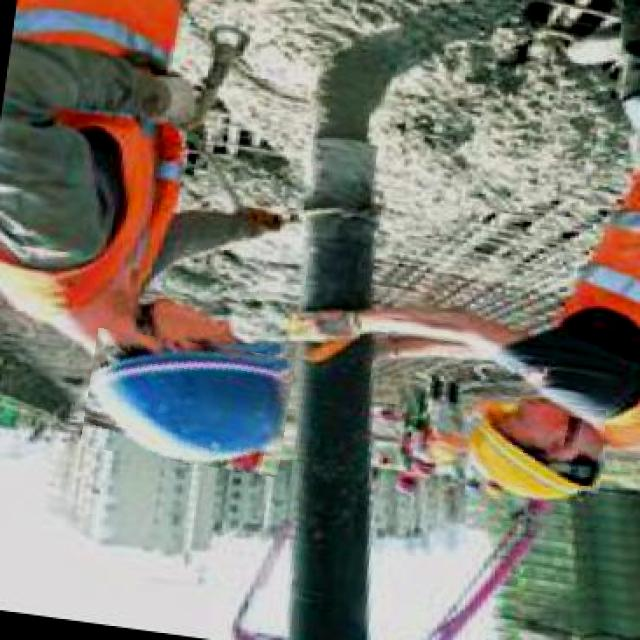helmet: (84, 335, 292, 469), (466, 401, 604, 503), (397, 476, 420, 496)
